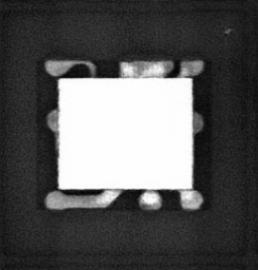DIE_INK: (223, 26, 233, 35)
